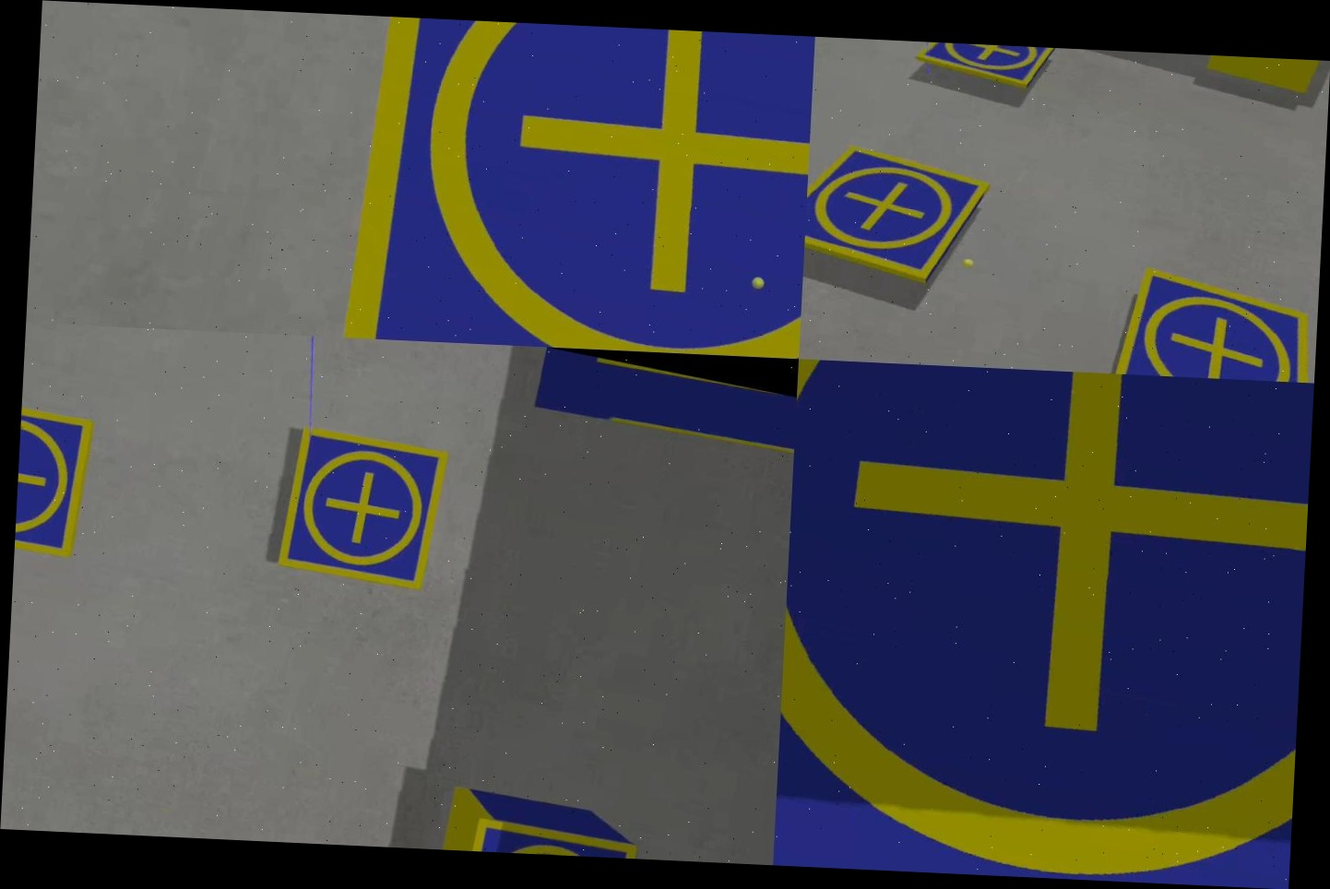small_base: (773, 359, 1313, 889), (298, 13, 815, 359), (271, 421, 456, 595), (802, 129, 994, 294), (1103, 261, 1319, 384), (14, 396, 101, 561), (448, 810, 638, 858), (914, 41, 1061, 98)
